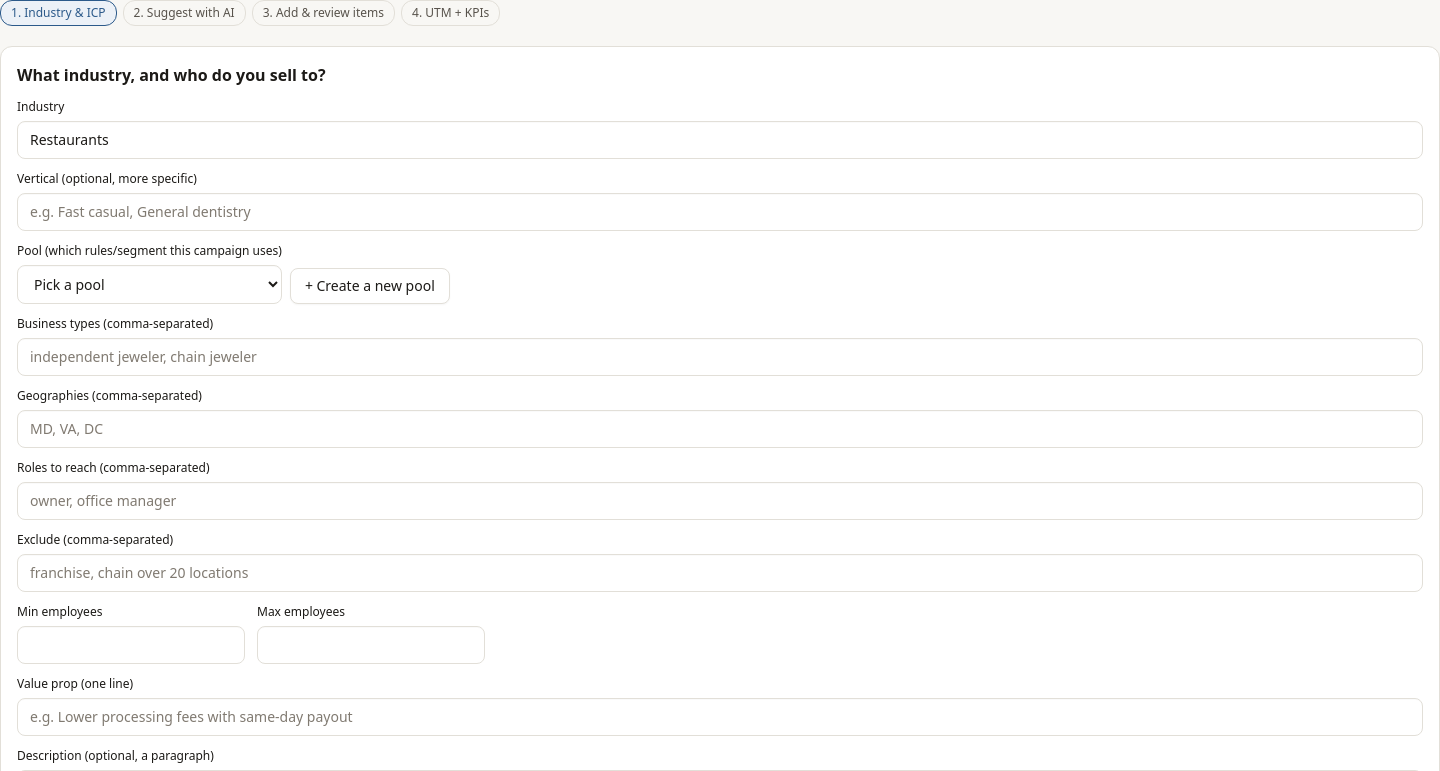
Campaign profile wizard › Step 2: when configured, shows suggested items grouped by kind with Approve/Reject and rationale
Click the button "2. Suggest with AI" at x=184, y=13, box x1=123 y1=0 x2=246 y2=26
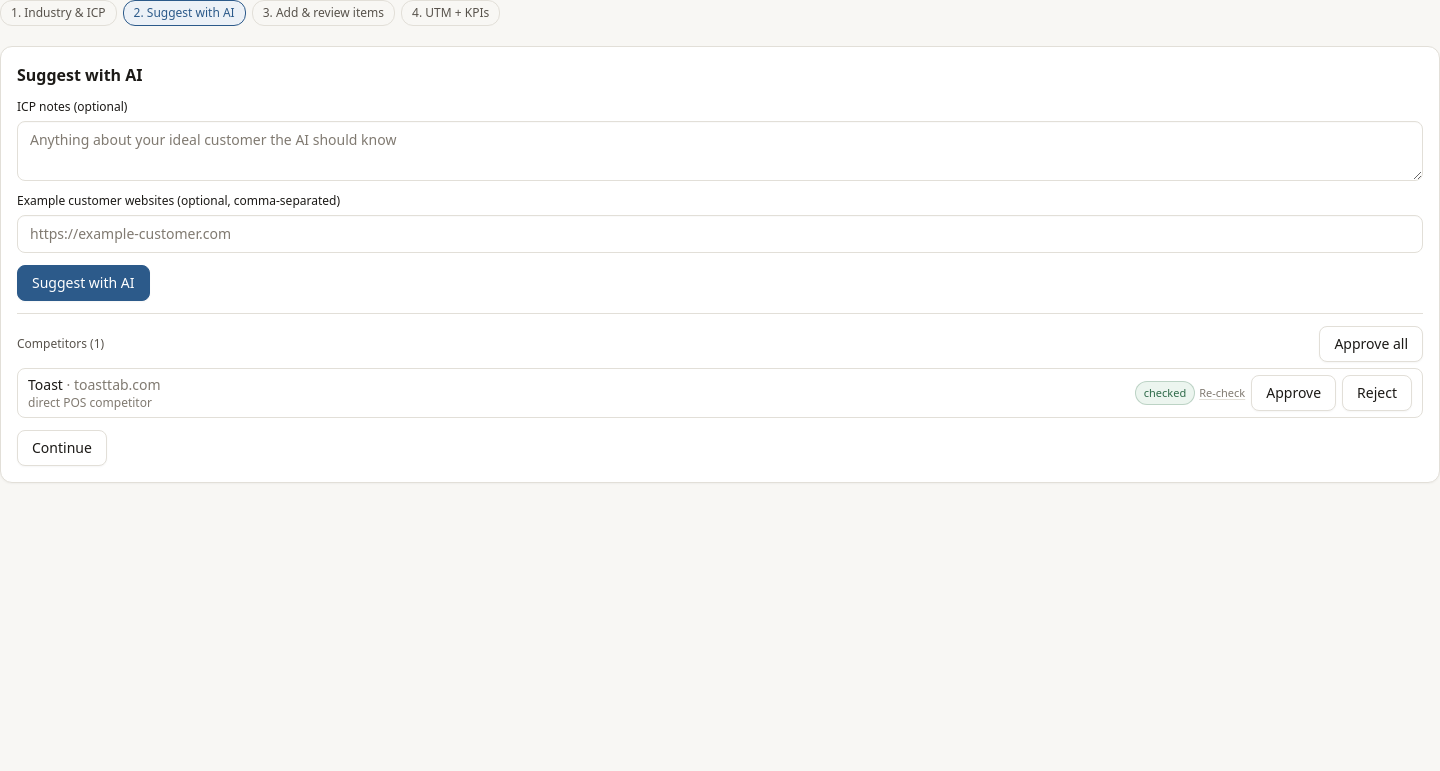
Expected: the text "Toast" is shown, x1=28 y1=375 x2=63 y2=394
Expected: the text "direct POS competitor" is shown, x1=28 y1=395 x2=161 y2=411
Expected: the button "Approve" is shown, x1=1251 y1=375 x2=1336 y2=411
